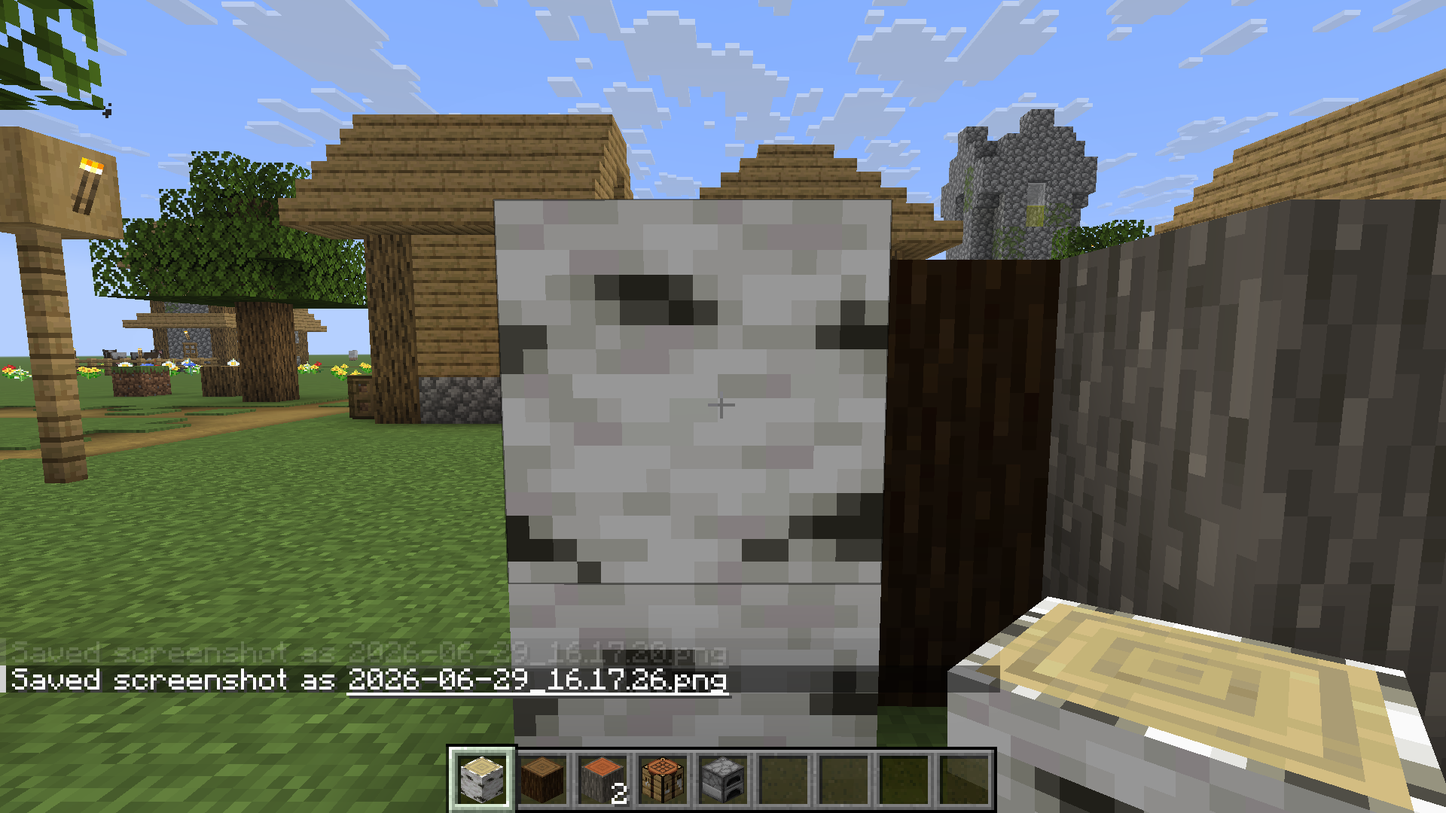Torch: (66, 151, 108, 228)
Tree: (110, 130, 390, 449)
wood 2: (1062, 255, 1421, 562)
wood 3: (886, 258, 1058, 507)
wood 4: (499, 204, 886, 585)
